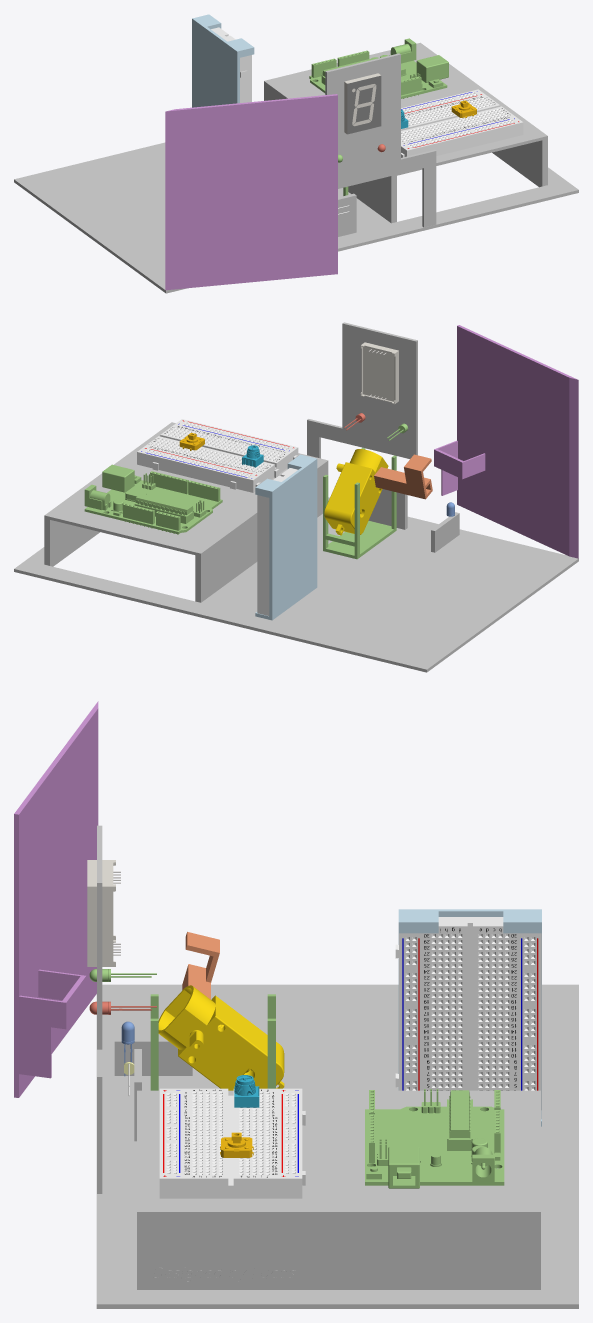
Rendered from LockBoxFinalReal.glb.
3 renders of one model, top to bottom at view 1: azimuth 30°, elevation 25°; view 2: azimuth 150°, elevation 25°; view 3: azimuth 270°, elevation 25°, orthographic. The views are drawn at different scales.
Visible parts, largest first — view 1: Part 1 (×3), Part 2, Boss-Extrude7 (×2), Boss-Extrude4; view 2: Part 1 (×5), Part 2, Boss-Extrude7 (×2), motor__Fillet6, Boss-Extrude4; view 3: Part 1 (×5), Boss-Extrude7 (×2), Part 2, motor__Fillet6, Boss-Extrude4.
Boxes of the visible parts, x1,y1,x2,y2 form: Part 1 (×3): [14, 14, 578, 293]; Part 2: [165, 94, 337, 290]; Boss-Extrude7 (×2): [211, 27, 523, 157]; Boss-Extrude4: [344, 73, 381, 134]; Part 1 (×5): [14, 322, 578, 672]; Part 2: [434, 325, 578, 558]; Boss-Extrude7 (×2): [137, 419, 298, 615]; motor__Fillet6: [324, 449, 388, 535]; Boss-Extrude4: [360, 342, 398, 404]; Part 1 (×5): [96, 825, 578, 1308]; Boss-Extrude7 (×2): [159, 917, 541, 1198]; Part 2: [14, 701, 98, 1097]; motor__Fillet6: [158, 985, 284, 1090]; Boss-Extrude4: [87, 860, 120, 966].
Size of the model in its own units: 0.2901 by 0.122 by 0.2167.
